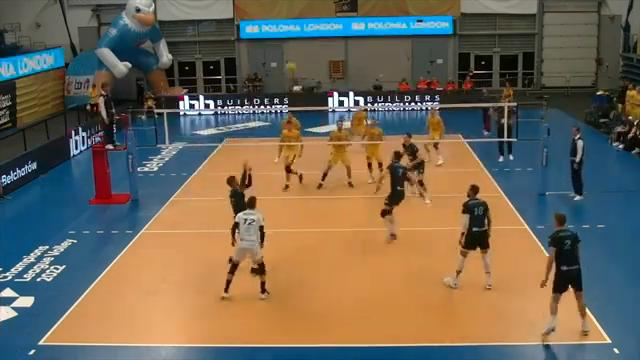alzata: (217, 157, 257, 249)
